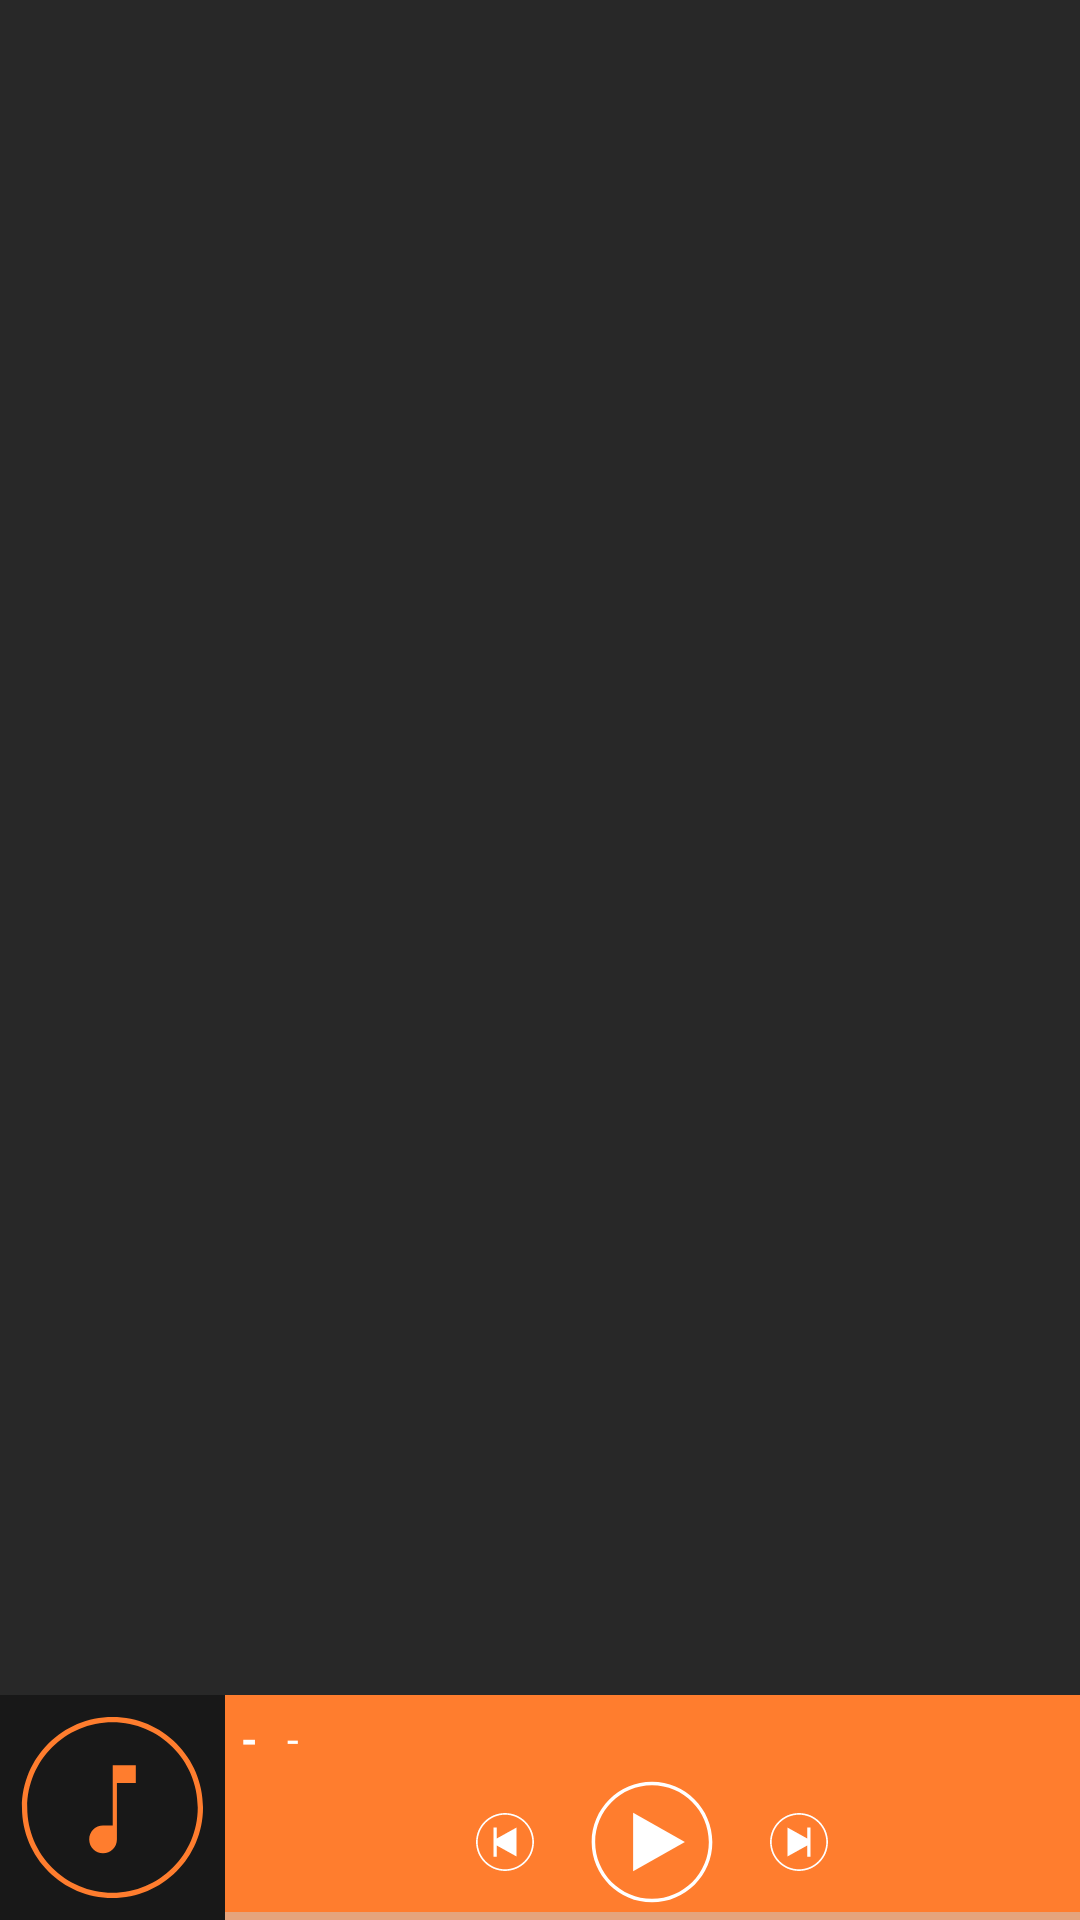

Named icons in this screenshot (1080x1920) and their centers, (x=x, y=y):
bigplay: (x=652, y=1842)
next: (x=799, y=1842)
prev: (x=505, y=1842)
song: (x=112, y=1807)
